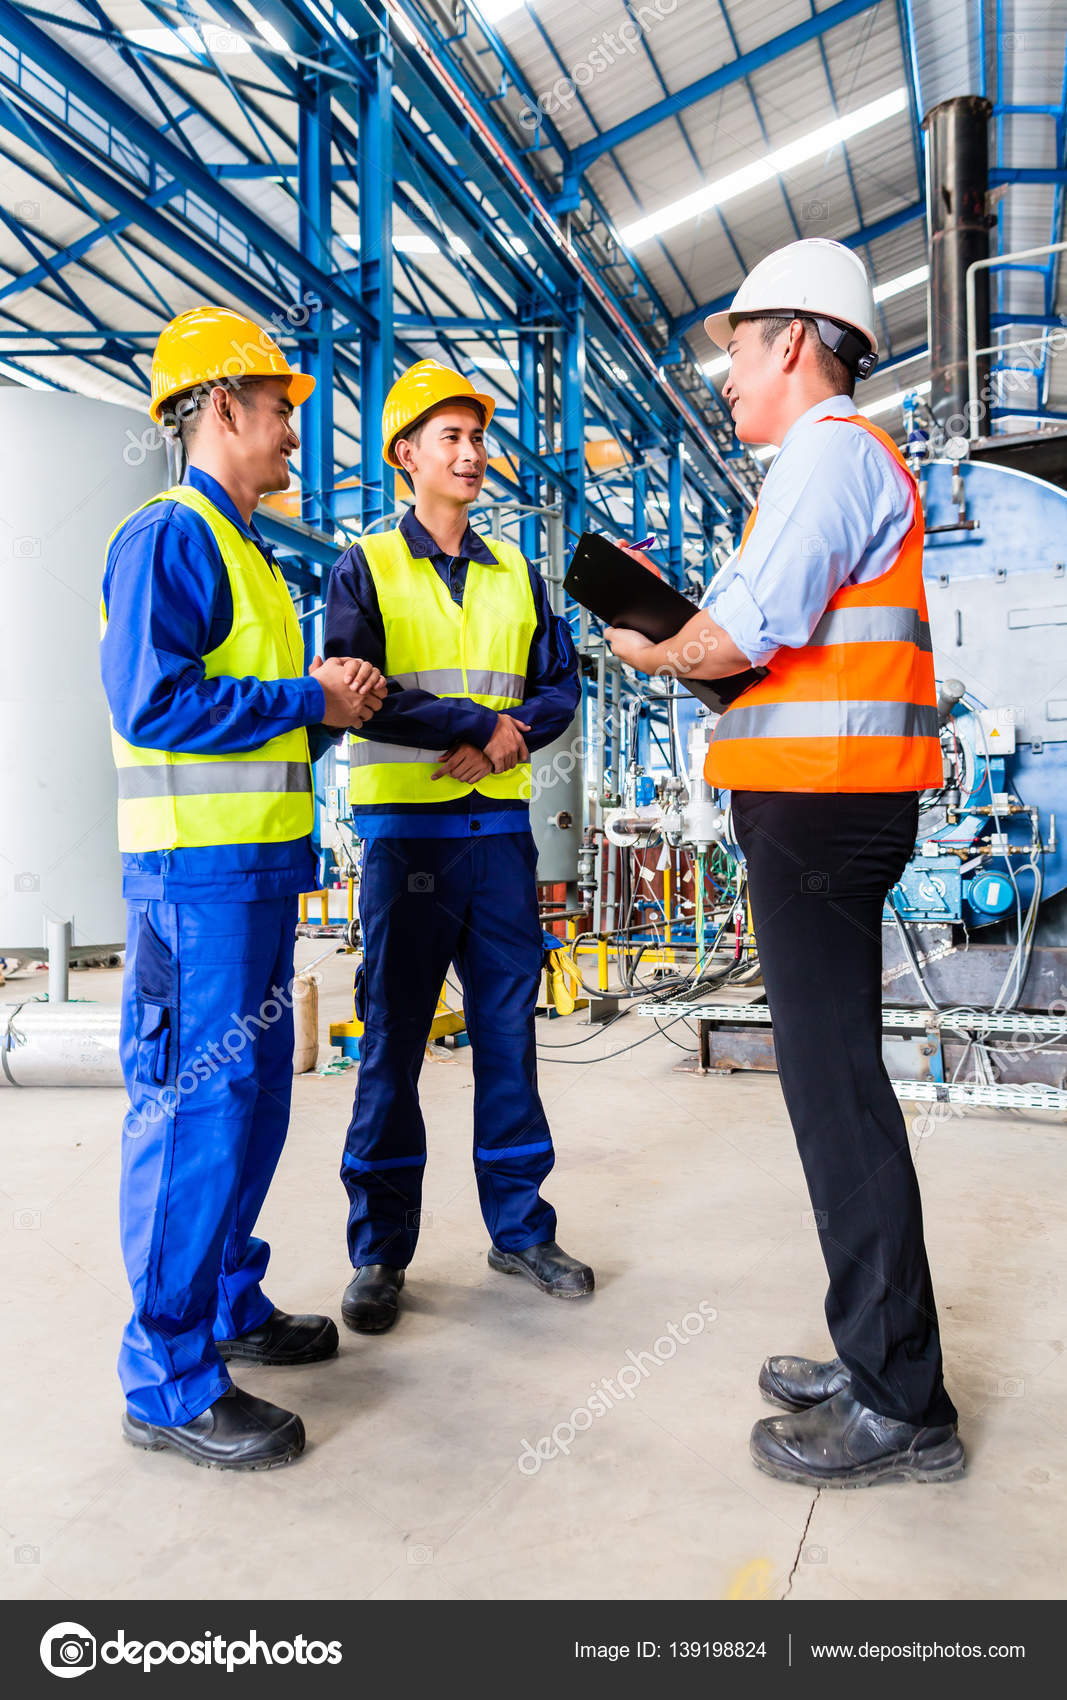person: (601, 239, 969, 1483), (101, 306, 387, 1464), (321, 364, 618, 1337)
